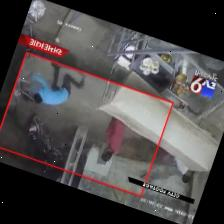person: (31, 62, 83, 104), (101, 116, 124, 161), (175, 157, 191, 182)
